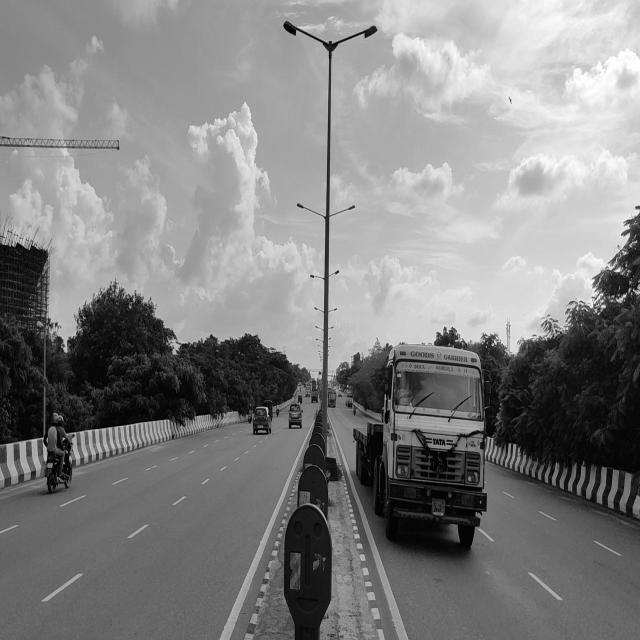bike: (38, 446, 78, 495)
truck: (353, 344, 491, 557)
